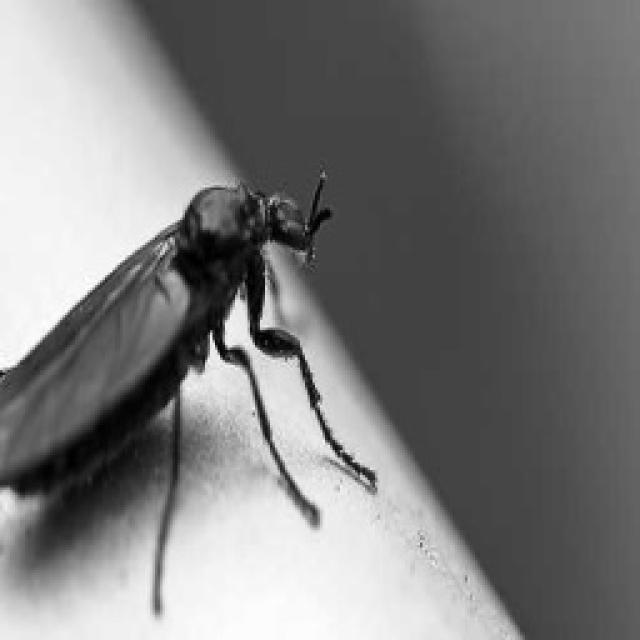cockroach: (2, 159, 384, 618)
